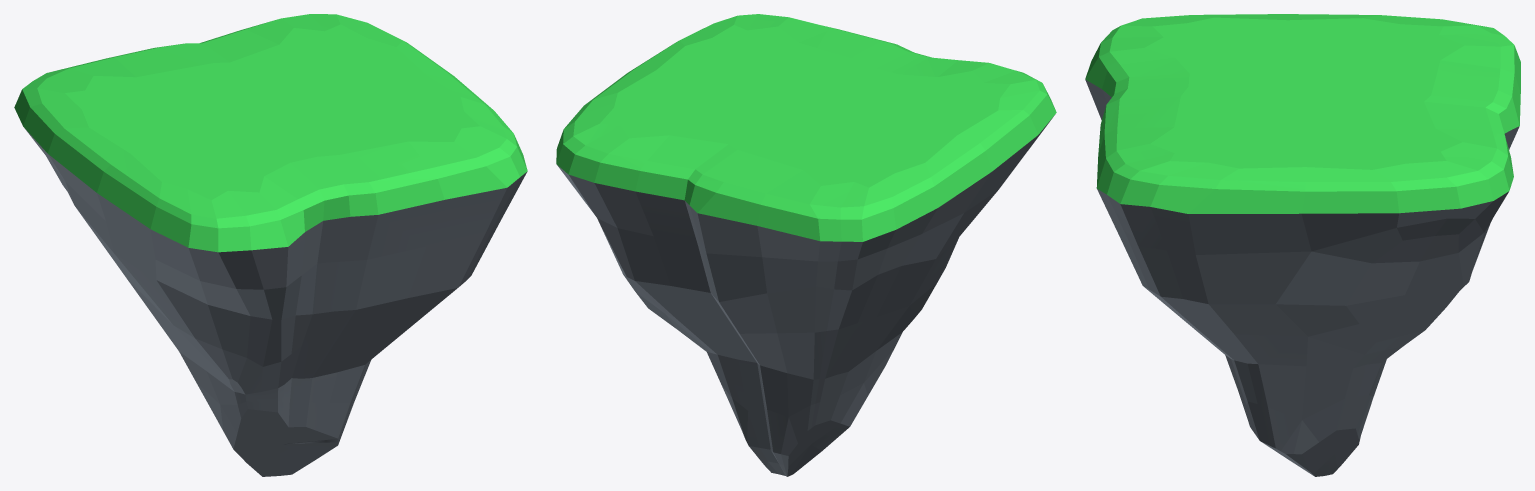
The model's file is testmodelsisland_Cube_001.fbx.
The picture shows the model from 3 angles, left to right: view 1: azimuth 30°, elevation 25°; view 2: azimuth 150°, elevation 25°; view 3: azimuth 270°, elevation 25°; orthographic projection. The views are drawn at different scales.
Visible parts, largest first — view 1: island_Cube_001; view 2: island_Cube_001; view 3: island_Cube_001.
Boxes of the visible parts, <box> form: island_Cube_001: <box>14,14,527,476</box>; island_Cube_001: <box>556,14,1056,476</box>; island_Cube_001: <box>1085,14,1520,476</box>.
Size of the model in its own units: 3271 by 3133 by 3329.
